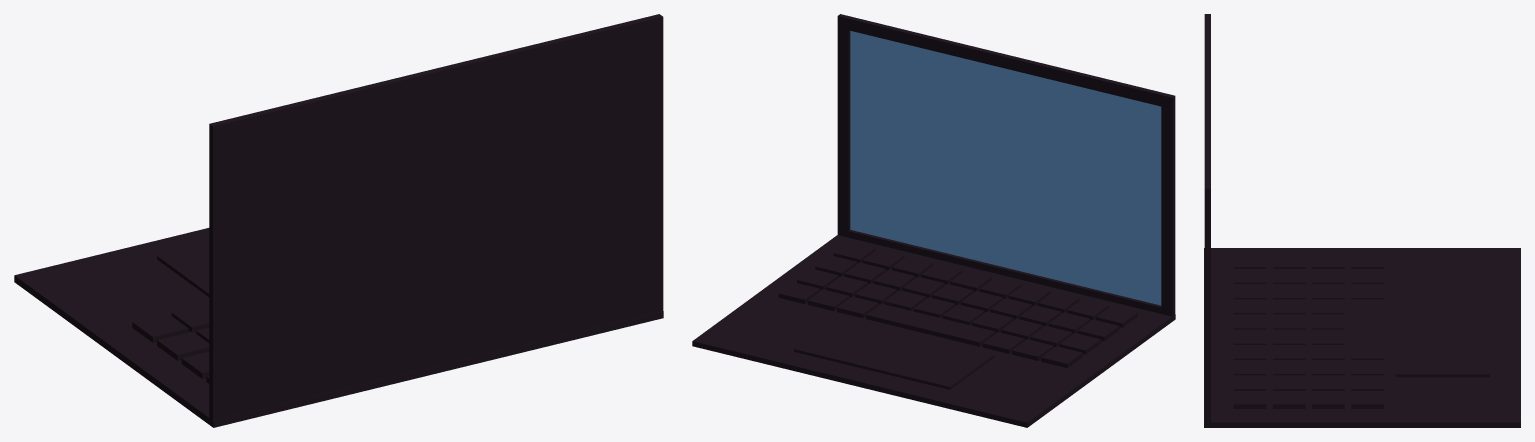
File: laptop.fbx
3 renders of one model, left to right at view 1: azimuth 30°, elevation 25°; view 2: azimuth 150°, elevation 25°; view 3: azimuth 270°, elevation 25°, orthographic. The views are drawn at different scales.
Parts seen in each view (by area): view 1: Carcasa; view 2: Carcasa; view 3: Carcasa.
Part boxes in pixels (left/top/right/bottom): Carcasa: left=14, top=14, right=663, bottom=427; Carcasa: left=692, top=14, right=1175, bottom=427; Carcasa: left=1204, top=14, right=1520, bottom=427.
Bounding box in the file's own units: 2526 × 1615 × 1936.
